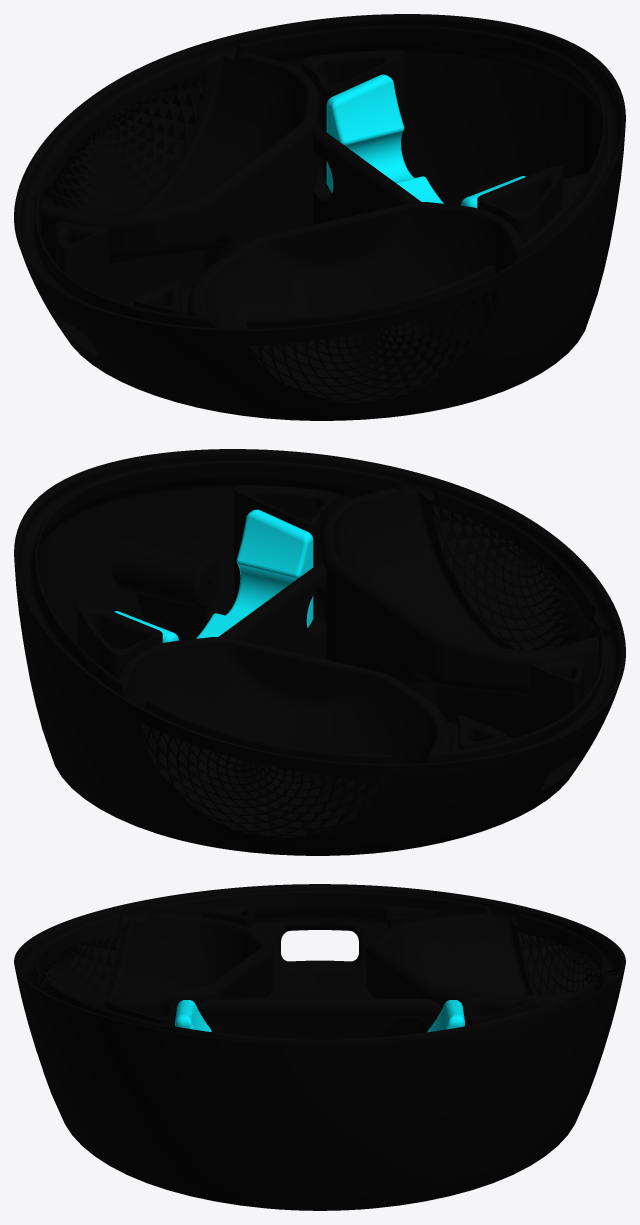
The picture shows the model from 3 angles, top to bottom: view 1: azimuth 30°, elevation 25°; view 2: azimuth 150°, elevation 25°; view 3: azimuth 270°, elevation 25°; orthographic projection. The views are drawn at different scales.
Visible parts, largest first — view 1: Layer 05, Layer 04, sp; view 2: Layer 05, Layer 04, sp; view 3: Layer 05, Layer 04, sp.
Boxes of the visible parts, left/top/right/bottom form: Layer 05: left=14, top=14, right=625, bottom=420; Layer 04: left=41, top=50, right=563, bottom=383; sp: left=326, top=74, right=525, bottom=208; Layer 05: left=14, top=449, right=625, bottom=855; Layer 04: left=76, top=485, right=598, bottom=818; sp: left=114, top=509, right=313, bottom=643; Layer 05: left=14, top=884, right=625, bottom=1210; Layer 04: left=64, top=913, right=574, bottom=1036; sp: left=175, top=1000, right=464, bottom=1032.
Bounding box in the file's own units: 0.0728 × 0.0242 × 0.0729.
